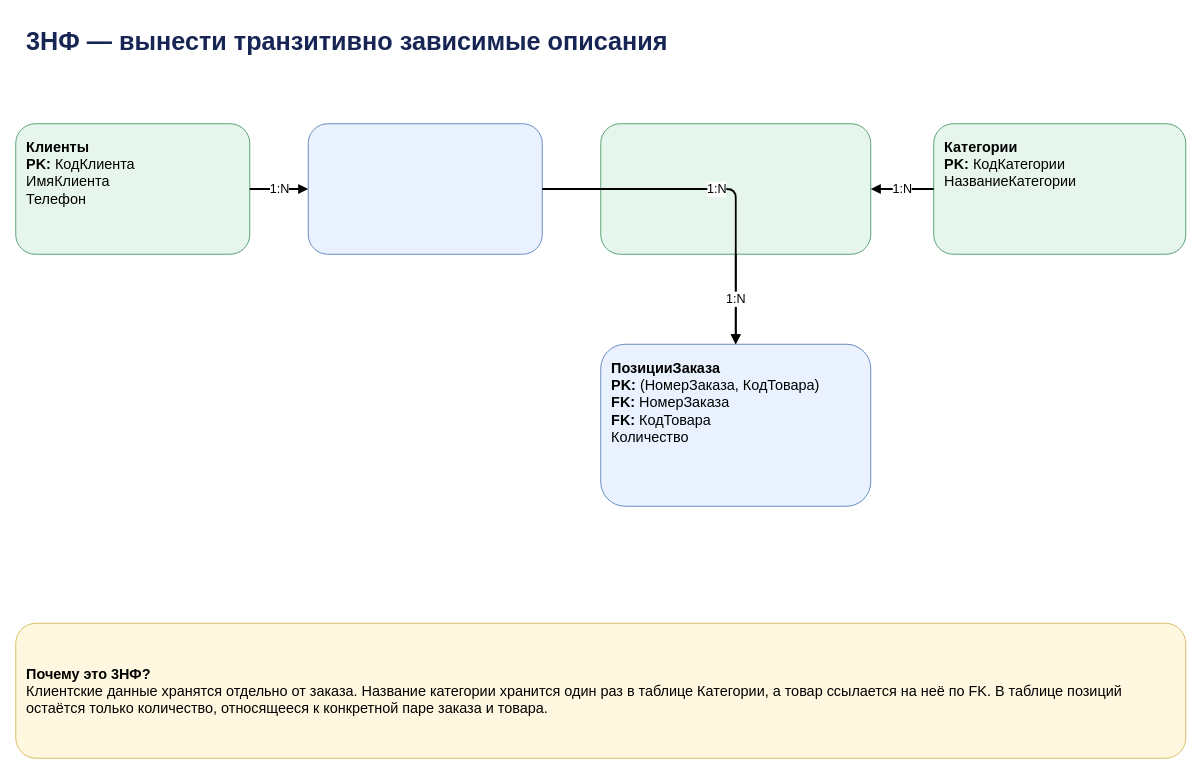
Image size: 1202x774. Some labels were removed from this diagram. The box of each missing label's shape, as (x1, y1, x2, y2) in pixels:
Заказы PK: НомерЗаказа Дата FK: КодКлиента: (307, 123, 542, 254)
Товары PK: КодТовара НазваниеТовара FK: КодКатегории: (600, 123, 871, 254)
